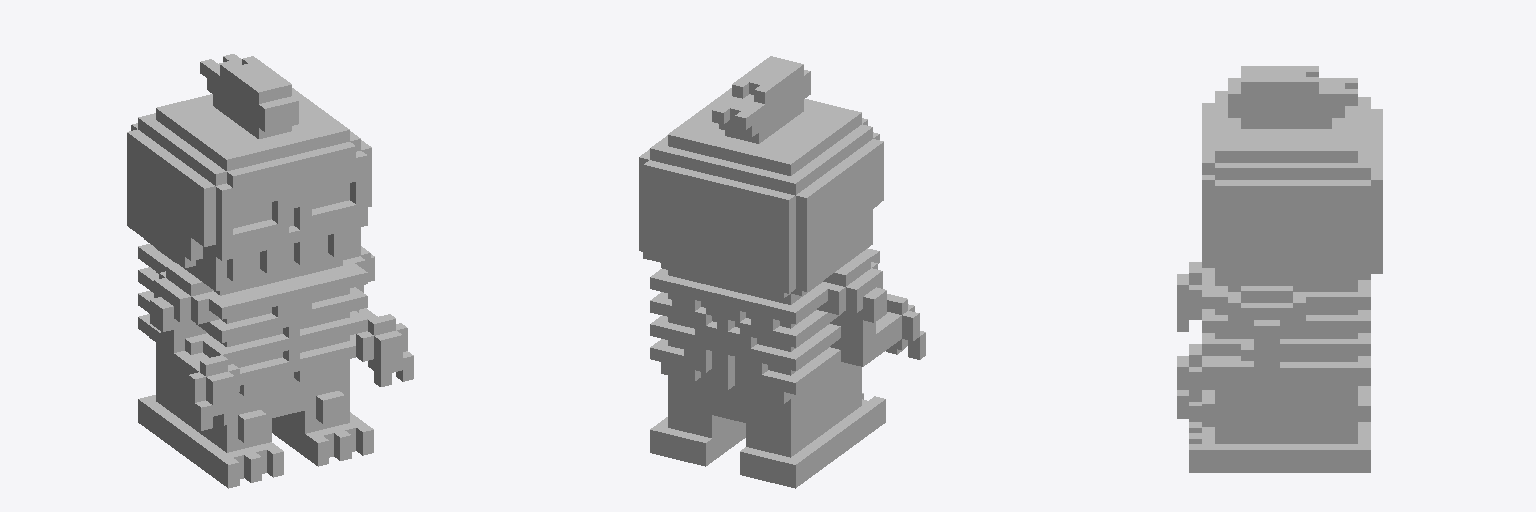
The model's file is Package 01 Necro Dungeon-21.obj.
The picture shows the model from 3 angles: view 1: azimuth 30°, elevation 25°; view 2: azimuth 150°, elevation 25°; view 3: azimuth 270°, elevation 25°; orthographic projection.
Parts seen in each view (by area): view 1: object 1; view 2: object 1; view 3: object 1.
Boxes of the visible parts, x1=… form: object 1: x1=127, y1=54, x2=413, y2=488; object 1: x1=639, y1=56, x2=925, y2=488; object 1: x1=1177, y1=66, x2=1382, y2=472.
Bounding box in the file's own units: 1.9 × 3.1 × 1.6.